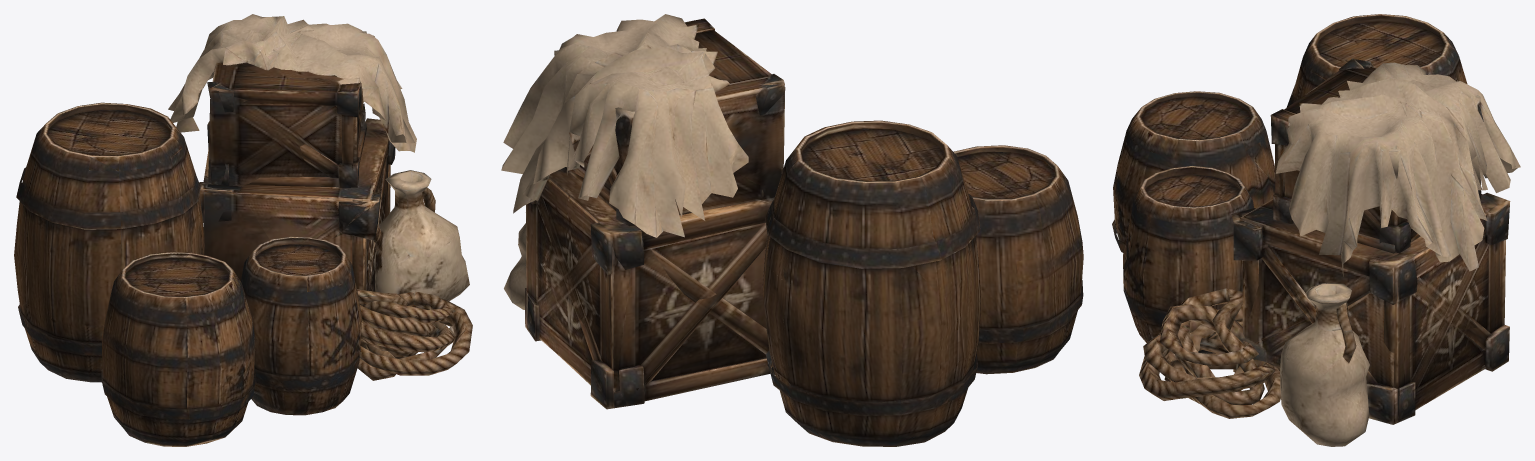
File: cargo-stack.glb
3 renders of one model, left to right at view 1: azimuth 30°, elevation 25°; view 2: azimuth 150°, elevation 25°; view 3: azimuth 270°, elevation 25°, orthographic. The views are drawn at different scales.
Parts seen in each view (by area): view 1: cargo-stack-v2_LOD0; view 2: cargo-stack-v2_LOD0; view 3: cargo-stack-v2_LOD0.
Boxes of the visible parts, bbox=[...] form: cargo-stack-v2_LOD0: bbox=[14, 14, 472, 446]; cargo-stack-v2_LOD0: bbox=[501, 14, 1083, 446]; cargo-stack-v2_LOD0: bbox=[1112, 14, 1520, 446].
Size of what is drawn, in the model's own units: 1 by 0.6502 by 0.8131.
Materials: 1 (1 with a texture image).
